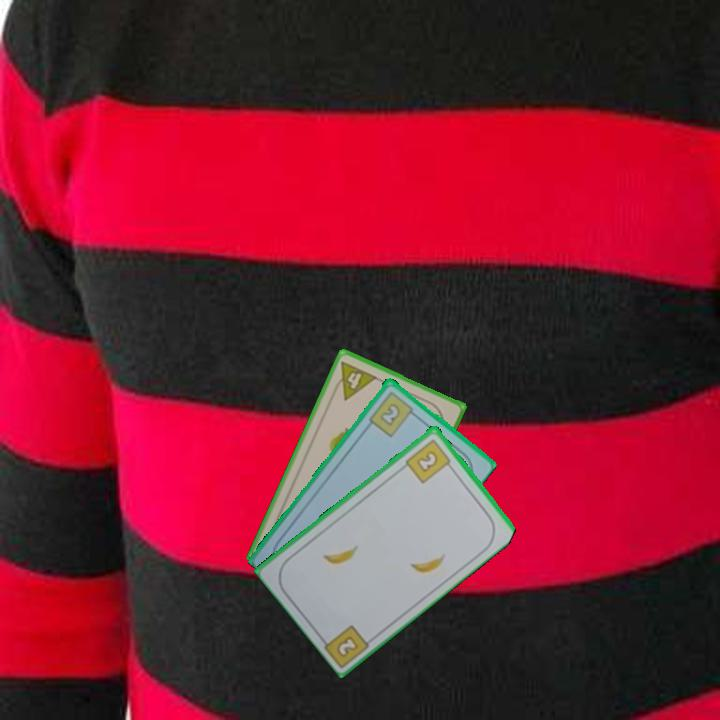2b: (365, 387, 420, 439), (402, 435, 456, 486), (333, 632, 361, 660)
4p: (328, 357, 380, 403)
